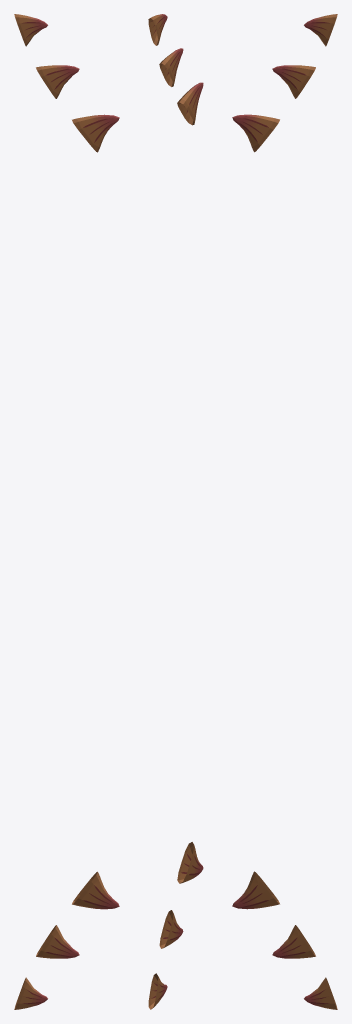
Rendered from smallBowChineseDragonSimpleTip.glb.
3 renders of one model, left to right at view 1: azimuth 90°, elevation 25°; view 2: azimuth 150°, elevation 25°; view 3: azimuth 270°, elevation 25°, orthographic.
Visible parts, largest first — view 1: smallBowChineseDragonSimpleTip; view 2: smallBowChineseDragonSimpleTip; view 3: smallBowChineseDragonSimpleTip.
Boxes of the visible parts, x1=… form: smallBowChineseDragonSimpleTip: x1=14, y1=14, x2=119, y2=1009; smallBowChineseDragonSimpleTip: x1=148, y1=14, x2=203, y2=1009; smallBowChineseDragonSimpleTip: x1=232, y1=14, x2=337, y2=1009.
Bounding box in the file's own units: 0.0104 × 1.11 × 0.1063.
